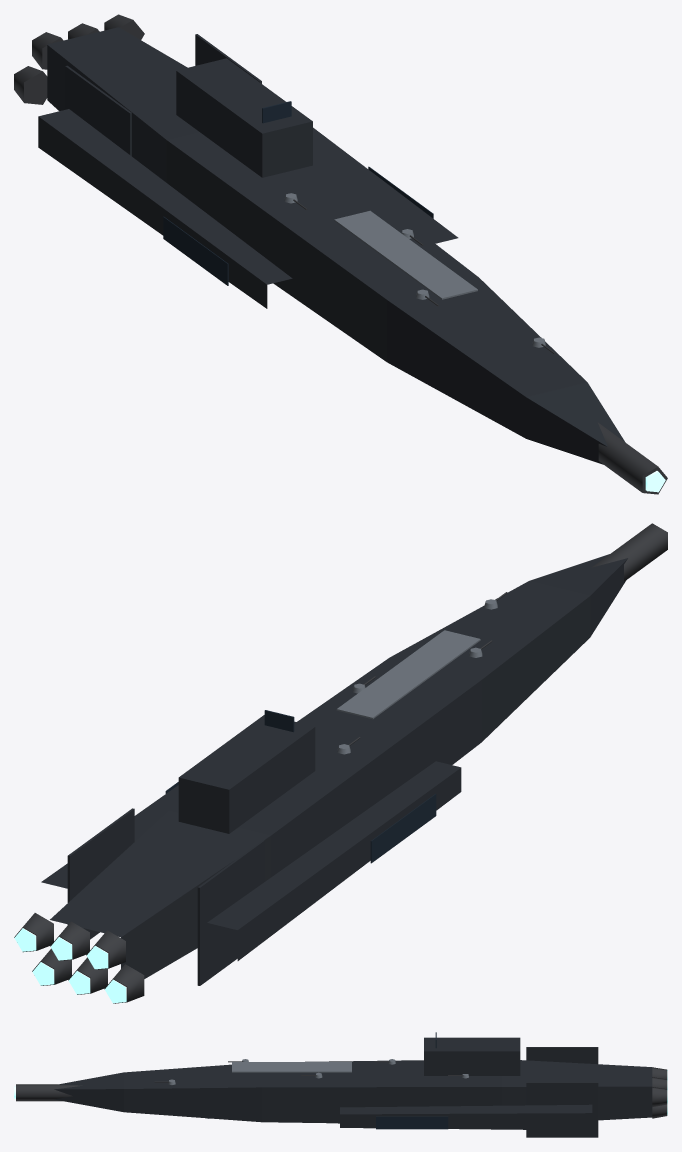
Rendered from space_ship_battleship_mk4_lod1.glb.
3 renders of one model, top to bottom at view 1: azimuth 30°, elevation 25°; view 2: azimuth 150°, elevation 25°; view 3: azimuth 270°, elevation 25°, orthographic. The views are drawn at different scales.
Parts seen in each view (by area): view 1: body, main_gun, hangar_r, engine_0; view 2: body, main_gun, hangar_r, engine_0, engine_1, engine_3, engine_5, engine_2, engine_4; view 3: body, hangar_l, main_gun, engine_5, engine_4.
Part boxes in pixels (x1,y1,x2,y2): body: (38,27,625,464); main_gun: (598,422,667,494); hangar_r: (163,216,228,285); engine_0: (14,66,47,104); body: (41,554,627,985); main_gun: (592,523,667,581); hangar_r: (370,794,436,863); engine_0: (104,964,144,1003); engine_1: (86,930,125,969); engine_3: (50,921,89,960); engine_5: (14,913,53,952); engine_2: (68,957,107,994); engine_4: (32,948,71,985); body: (54,1032,652,1137); hangar_l: (376,1116,448,1129); main_gun: (14,1084,82,1101); engine_5: (652,1087,667,1106); engine_4: (652,1104,667,1118).
Size of the model in its own units: 28.5 by 19.82 by 141.
